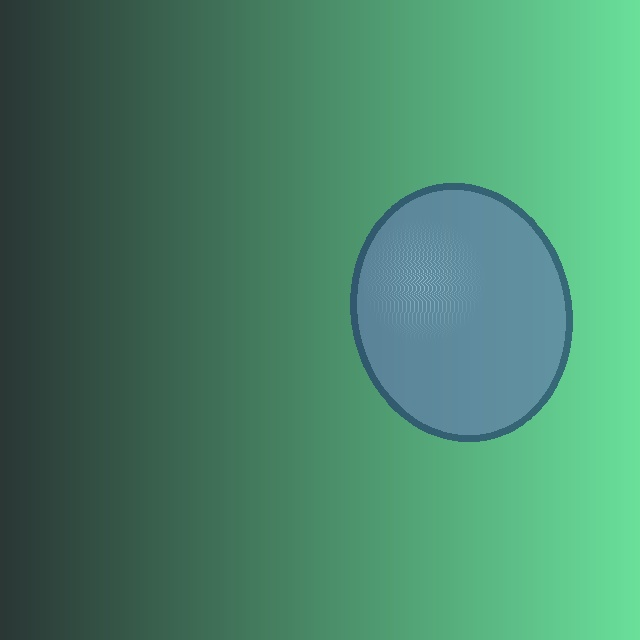lens: (353, 186, 569, 438)
